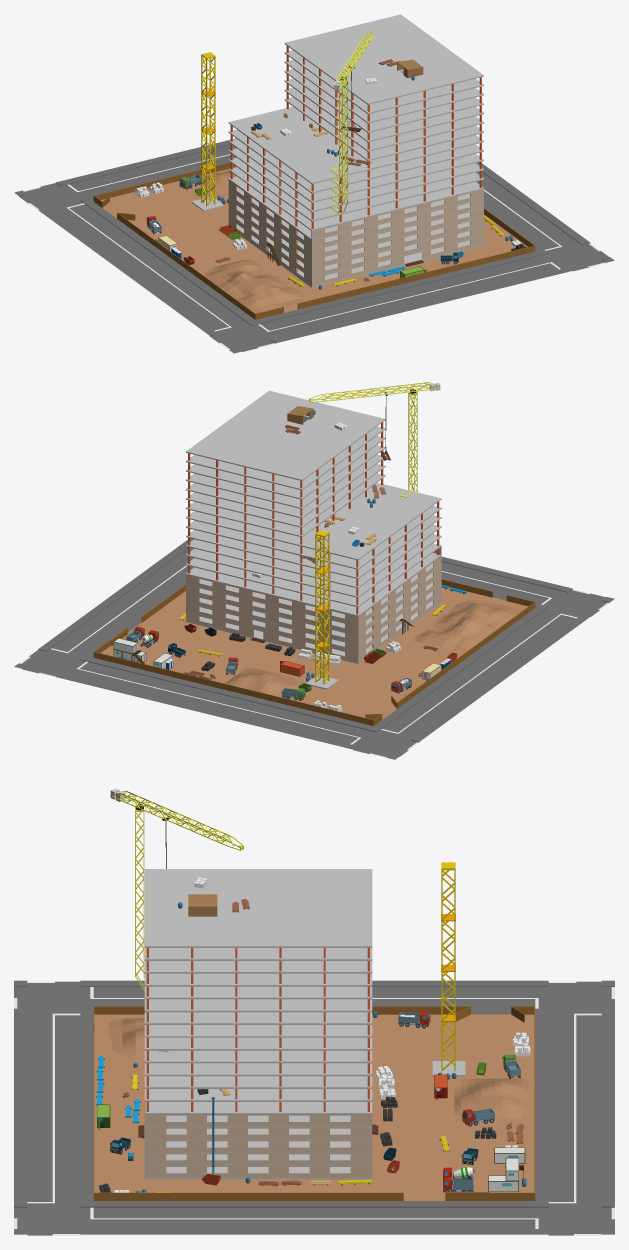
The model's file is HouseConstructionCompress.glb.
The picture shows the model from 3 angles, top to bottom: view 1: azimuth 30°, elevation 25°; view 2: azimuth 150°, elevation 25°; view 3: azimuth 270°, elevation 25°; orthographic projection. The views are drawn at different scales.
Parts seen in each view (by area): view 1: HouseConstructionSite.001, Roads.001; view 2: HouseConstructionSite.001, Roads.001; view 3: HouseConstructionSite.001, Roads.001.
Part boxes in pixels (x1,y1,x2,y2): HouseConstructionSite.001: [93, 14, 535, 319]; Roads.001: [14, 138, 614, 353]; HouseConstructionSite.001: [93, 382, 535, 725]; Roads.001: [14, 538, 614, 759]; HouseConstructionSite.001: [93, 788, 535, 1200]; Roads.001: [14, 980, 614, 1235].
Size of the model in its own units: 136 by 71.51 by 136.
Materials: 3 (3 with a texture image).
